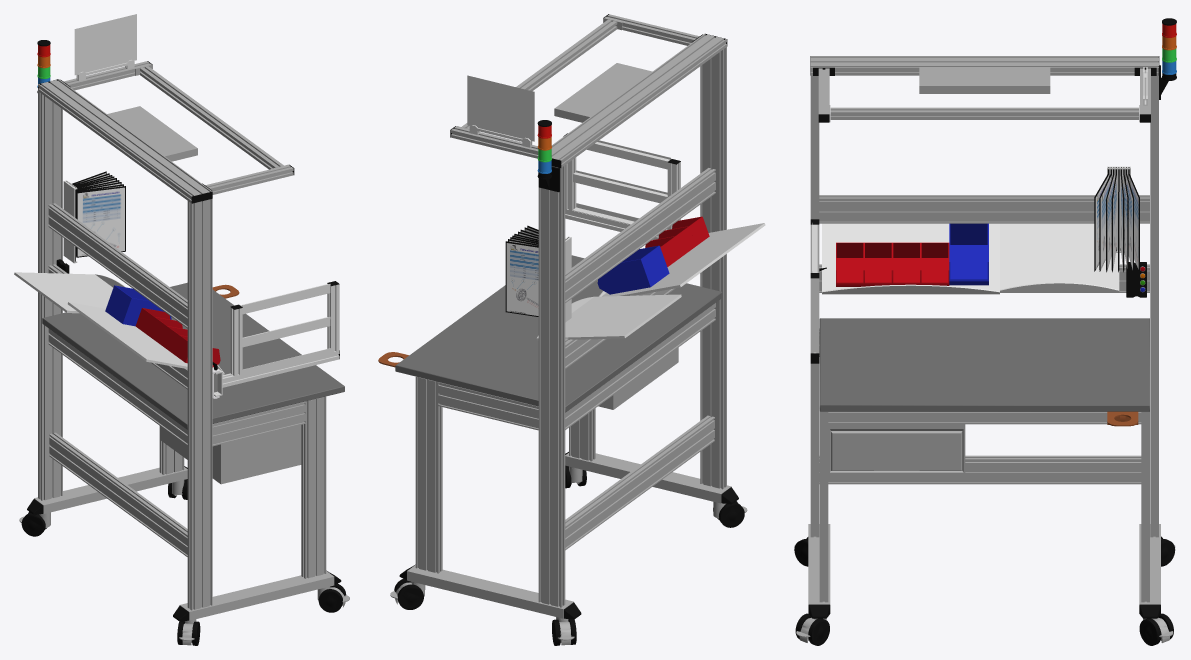
File: Poste_manuel_1200.fbx
The picture shows the model from 3 angles, left to right: view 1: azimuth 30°, elevation 25°; view 2: azimuth 150°, elevation 25°; view 3: azimuth 270°, elevation 25°; orthographic projection. The views are drawn at different scales.
Parts seen in each view (by area): view 1: PosteManuel1200mm, Cube.009, PosteManuel1200mm.001, Fiche_poste, Petite plaque, Document_fiche7.005, Grande plaque, PosteManuel_light, Grand Bacs.003, BacExtraLarge, Porte_documents, Andon; view 2: PosteManuel1200mm, PosteManuel1200mm.001, Cube.009, Fiche_poste, Petite plaque, Grande plaque, PosteManuel_light, Document_fiche9, BacExtraLarge, Grand Bacs.003, Andon; view 3: PosteManuel1200mm, PosteManuel1200mm.001, Petite plaque, Grande plaque, PosteManuel_tiroir, Grand Bacs.003, PosteManuel_light, BacExtraLarge, Cube.009, Andon, Andon_telecommande, Document_fiche7.004.
Part boxes in pixels (x1=…): PosteManuel1200mm: x1=19, y1=61, x2=349, y2=645; Cube.009: x1=214, y1=281, x2=339, y2=396; PosteManuel1200mm.001: x1=48, y1=203, x2=187, y2=328; Fiche_poste: x1=74, y1=14, x2=136, y2=80; Petite plaque: x1=14, y1=272, x2=125, y2=313; Document_fiche7.005: x1=76, y1=186, x2=125, y2=257; Grande plaque: x1=67, y1=302, x2=224, y2=374; PosteManuel_light: x1=107, y1=106, x2=197, y2=161; Grand Bacs.003: x1=135, y1=308, x2=220, y2=367; BacExtraLarge: x1=105, y1=285, x2=171, y2=326; Porte_documents: x1=63, y1=180, x2=77, y2=263; Andon: x1=37, y1=40, x2=50, y2=92; PosteManuel1200mm: x1=390, y1=14, x2=747, y2=645; PosteManuel1200mm.001: x1=565, y1=168, x2=715, y2=302; Cube.009: x1=563, y1=133, x2=680, y2=239; Fiche_poste: x1=467, y1=75, x2=534, y2=147; Petite plaque: x1=536, y1=294, x2=681, y2=340; Grande plaque: x1=599, y1=223, x2=765, y2=296; PosteManuel_light: x1=554, y1=63, x2=652, y2=122; Document_fiche9: x1=505, y1=241, x2=538, y2=316; BacExtraLarge: x1=597, y1=245, x2=669, y2=294; Grand Bacs.003: x1=645, y1=216, x2=709, y2=266; Andon: x1=537, y1=120, x2=559, y2=192; PosteManuel1200mm: x1=794, y1=56, x2=1175, y2=645; PosteManuel1200mm.001: x1=819, y1=195, x2=1149, y2=223; Petite plaque: x1=1000, y1=223, x2=1119, y2=292; Grande plaque: x1=822, y1=223, x2=999, y2=294; PosteManuel_tiroir: x1=831, y1=431, x2=962, y2=470; Grand Bacs.003: x1=836, y1=242, x2=949, y2=286; PosteManuel_light: x1=919, y1=67, x2=1050, y2=93; BacExtraLarge: x1=949, y1=223, x2=988, y2=285; Cube.009: x1=810, y1=219, x2=819, y2=363; Andon: x1=1159, y1=18, x2=1176, y2=99; Andon_telecommande: x1=1126, y1=262, x2=1146, y2=297; Document_fiche7.004: x1=1099, y1=173, x2=1111, y2=271.
Size of the model in its own units: 1.06 by 2.27 by 1.39.
20 materials, 1 textured.
